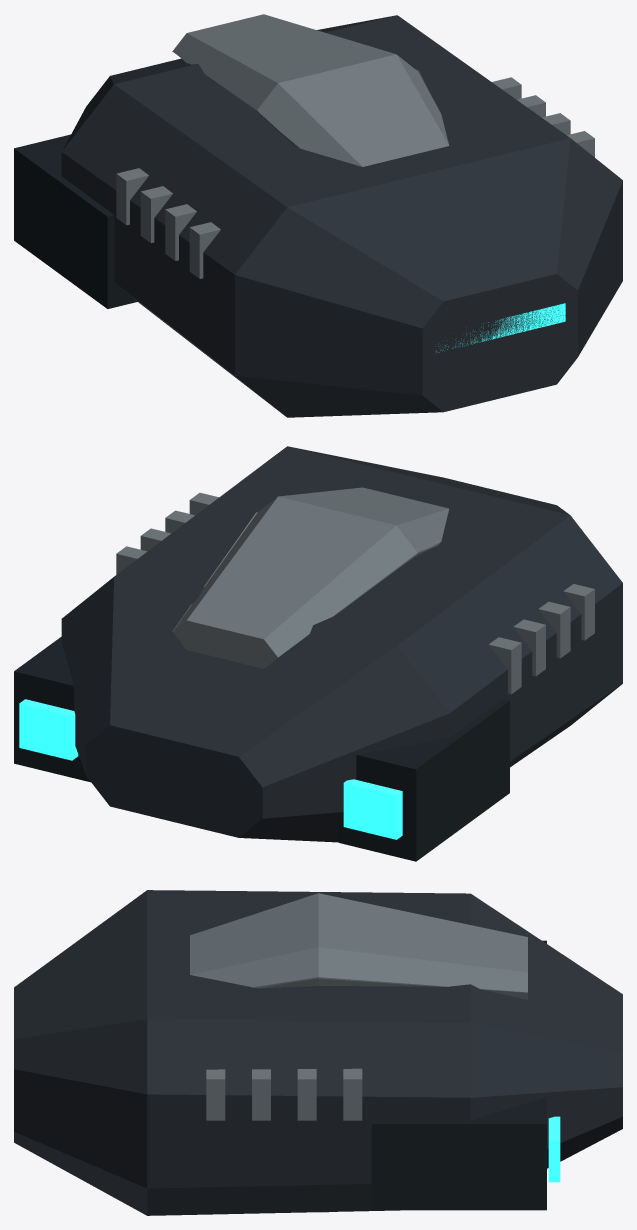
File: charging_relay.glb
3 views of the same model, one above another, from view 1: azimuth 30°, elevation 25°; view 2: azimuth 150°, elevation 25°; view 3: azimuth 270°, elevation 25° (orthographic). The views are drawn at different scales.
Visible parts, largest first — view 1: RelayMonocoque, RelayDorsalSpine, RelayThruster, RelayVisor, RelayFin.002, RelayFin.003, RelayFin, RelayFin.001; view 2: RelayMonocoque, RelayDorsalSpine, RelayThruster, RelayThruster.001, RelayThrusterExit, RelayThrusterExit.001, RelayFin.003, RelayFin.001, RelayFin.002, RelayFin; view 3: RelayMonocoque, RelayDorsalSpine, RelayThruster.001, RelayFin.007, RelayFin.004, RelayFin.006, RelayFin.005, RelayThrusterExit.001.
Part boxes in pixels (x1,y1,x2,y2): RelayMonocoque: (61,15,622,417); RelayDorsalSpine: (172,14,449,166); RelayThruster: (14,134,137,308); RelayVisor: (435,303,565,352); RelayFin.002: (140,186,172,242); RelayFin.003: (116,168,148,225); RelayFin: (189,222,220,278); RelayFin.001: (165,204,196,260); RelayMonocoque: (61,446,622,842); RelayDorsalSpine: (172,487,448,668); RelayThruster: (338,699,509,861); RelayThruster.001: (14,636,90,782); RelayThrusterExit: (343,779,402,839); RelayThrusterExit.001: (19,699,78,760); RelayFin.003: (488,637,521,694); RelayFin.001: (538,601,570,658); RelayFin.002: (513,619,545,676); RelayFin: (563,584,594,640); RelayMonocoque: (14,890,622,1215); RelayDorsalSpine: (190,893,527,999); RelayThruster.001: (371,1096,546,1210); RelayFin.007: (343,1068,362,1120); RelayFin.004: (206,1069,225,1120); RelayFin.006: (297,1069,316,1120); RelayFin.005: (252,1069,270,1120); RelayThrusterExit.001: (548,1116,560,1182).
Size of the model in its own units: 1.14 by 0.7525 by 1.6.
